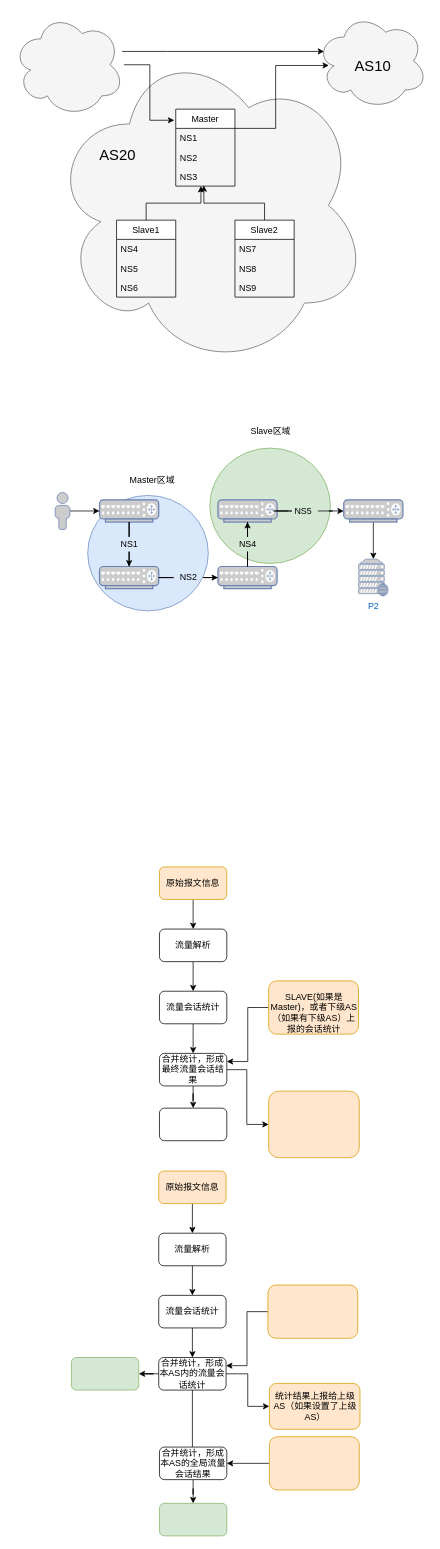
Image size: 440x1549. Some labels were removed from this diagram. The shapes that lost their labels are listed below. From the top down, each one's centre as x and y in pixels, then its label:
(x=68, y=64): AS200
(x=62, y=510): P1
(x=193, y=1124): 统计结果写入Elastic
(x=313, y=1124): 统计结果上报给Master(如果是Slave)，或者上报给上级AS（如果是Master并且设置了上级AS）
(x=312, y=1311): SLAVE(如果是Master)上报的会话统计
(x=105, y=1373): 本AS内的统计结果写入Elastic
(x=314, y=1463): 其他AS上报的统计（如果有其他AS下级）
(x=193, y=1519): 全局统计结果写入Elastic
